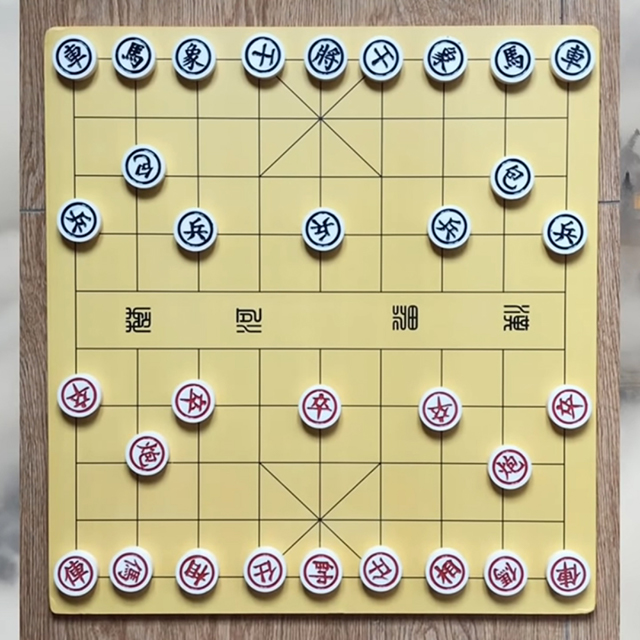Black-Cannon: (124, 146, 164, 188), (494, 156, 530, 199)
Black-Chariot: (552, 40, 598, 82), (54, 38, 96, 80)
Black-Elephant: (422, 36, 467, 84), (174, 34, 214, 82)
Black-General: (310, 36, 343, 80)
Black-Guard: (364, 38, 402, 80), (244, 36, 282, 78)
Black-Horse: (490, 38, 532, 82), (113, 36, 152, 80)
Black-Soldier: (544, 212, 586, 256), (428, 207, 469, 251), (176, 210, 214, 252), (305, 209, 341, 252), (59, 202, 96, 242)
Red-Cannon: (124, 434, 168, 477), (489, 448, 528, 488)
Red-Chariot: (548, 556, 587, 597), (56, 555, 94, 594)
Red-Elephant: (176, 552, 218, 597), (426, 548, 466, 595)
Red-General: (300, 553, 343, 598)
Red-Guard: (361, 551, 402, 594), (246, 549, 284, 592)
Red-Horse: (112, 551, 150, 593), (489, 554, 524, 598)
Red-Soldier: (58, 378, 98, 418), (422, 390, 460, 431), (174, 382, 212, 422), (552, 387, 588, 428), (301, 389, 336, 427)
intersection: (297, 99, 342, 138), (235, 214, 278, 252), (481, 386, 523, 424), (362, 97, 398, 138), (424, 98, 462, 136), (546, 152, 582, 192), (180, 99, 217, 137), (238, 498, 275, 536), (117, 98, 156, 134), (488, 97, 524, 136), (300, 502, 339, 538), (365, 215, 402, 252), (485, 218, 522, 255), (59, 500, 95, 538), (178, 496, 214, 534), (420, 272, 460, 306), (115, 504, 155, 538), (551, 97, 586, 135), (236, 273, 277, 305), (58, 99, 94, 135), (240, 98, 276, 134), (424, 502, 460, 538), (483, 502, 519, 538), (301, 272, 336, 308), (303, 448, 341, 481), (122, 212, 154, 251), (362, 448, 399, 481), (424, 160, 460, 193), (181, 446, 214, 482), (180, 332, 217, 364), (182, 154, 213, 192), (60, 272, 92, 308), (548, 272, 580, 308), (424, 334, 460, 366), (362, 389, 398, 421), (365, 500, 397, 536), (116, 272, 152, 303), (547, 503, 578, 539), (548, 334, 581, 367), (302, 332, 336, 364), (242, 446, 276, 478), (60, 157, 93, 189), (363, 272, 396, 304), (61, 448, 93, 480), (366, 159, 397, 192), (246, 158, 274, 194), (243, 335, 276, 365), (242, 388, 275, 418), (424, 451, 457, 481), (487, 272, 518, 303), (367, 334, 397, 366), (548, 446, 578, 478), (180, 275, 213, 304), (306, 159, 336, 190), (122, 336, 154, 365), (125, 388, 154, 420), (490, 334, 518, 367), (62, 336, 92, 362)
